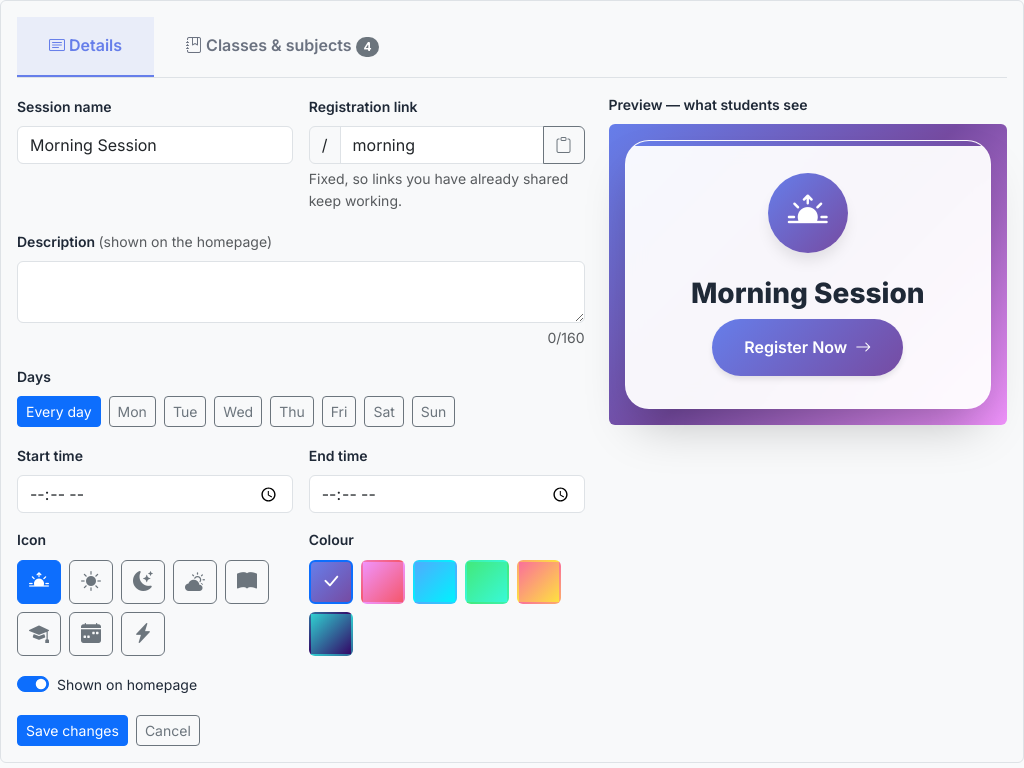
it: SessionEditor: classes students can choose › refuses a duplicate when adding (case-insensitive)
This screenshot has width=1024, height=768.
Step 1. Click the tab "Classes & subjects 4" → (283, 46), box x1=154 y1=17 x2=411 y2=75
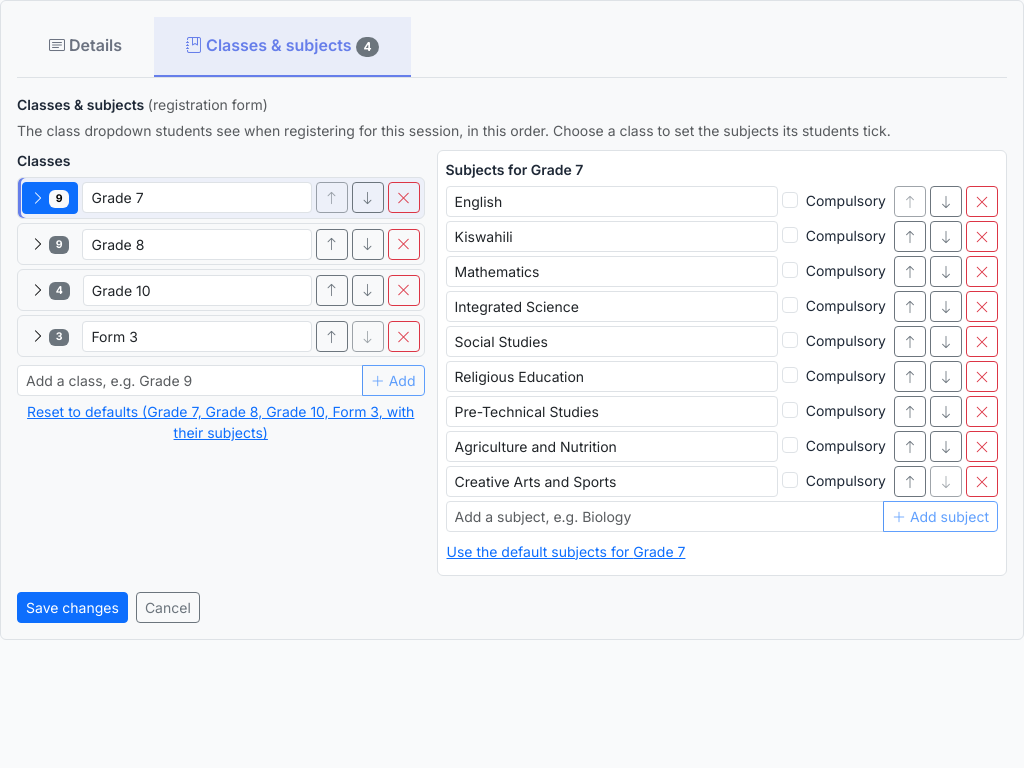
Step 2. Type "grade 8" into the field named "New class name" → (190, 381), box x1=17 y1=366 x2=363 y2=396
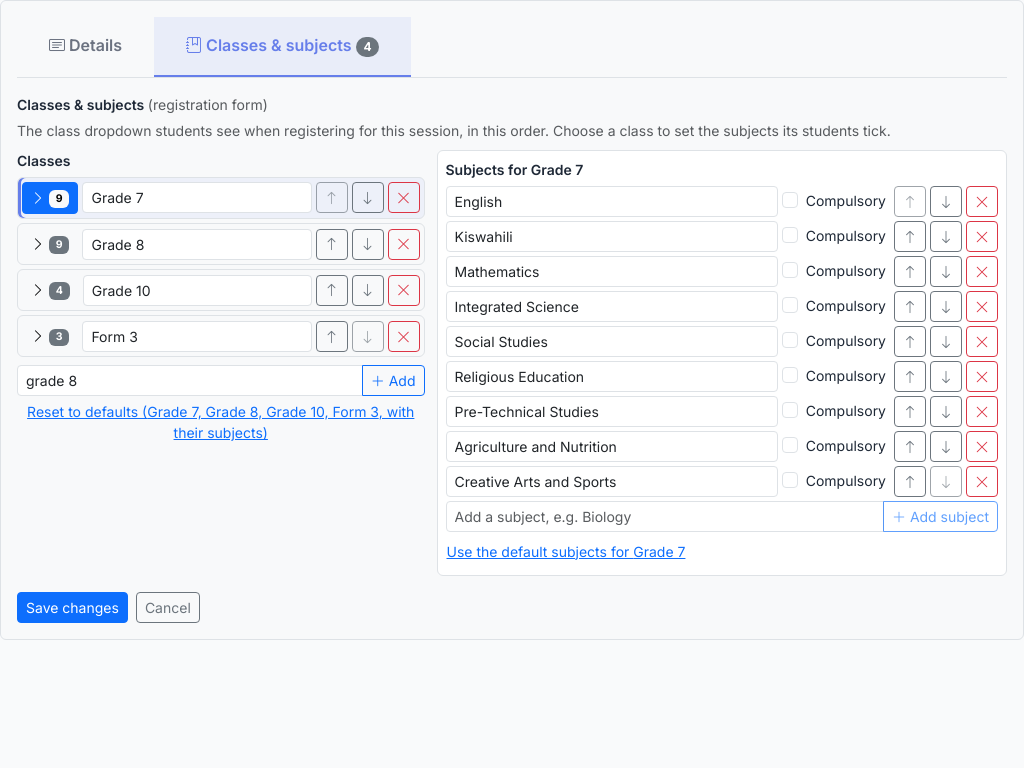
Step 3. Click the button "Add" → (393, 381), box x1=362 y1=366 x2=424 y2=396
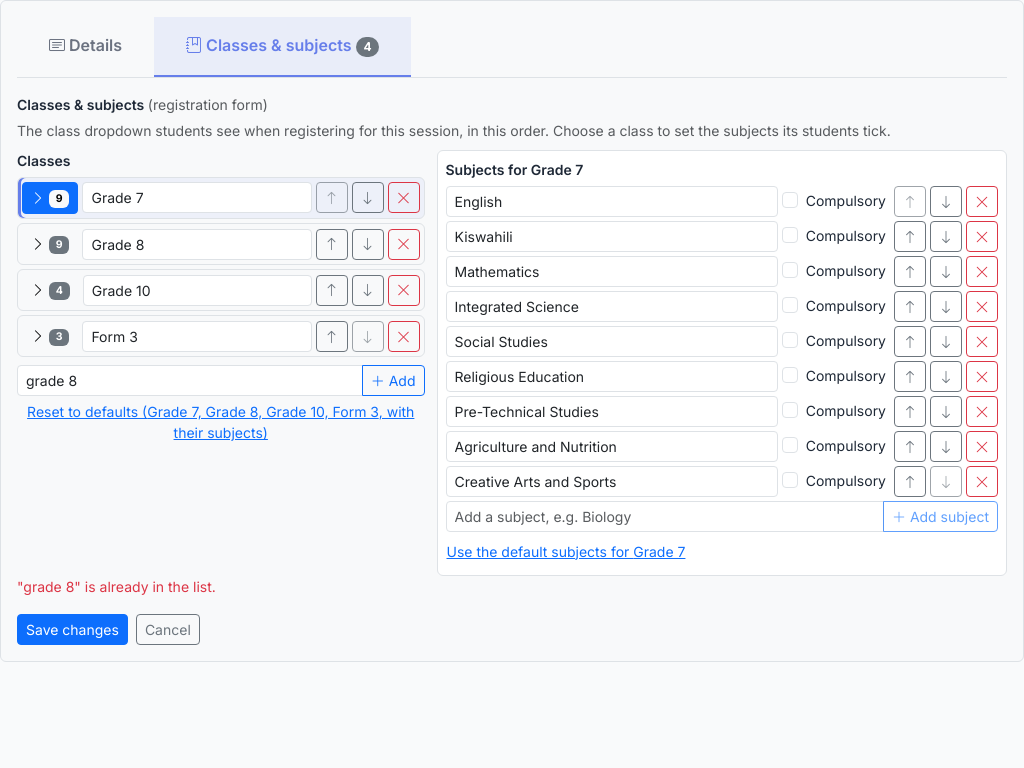
Now the message reads "\"grade 8\" is already in the list.", box x1=17 y1=578 x2=216 y2=595
